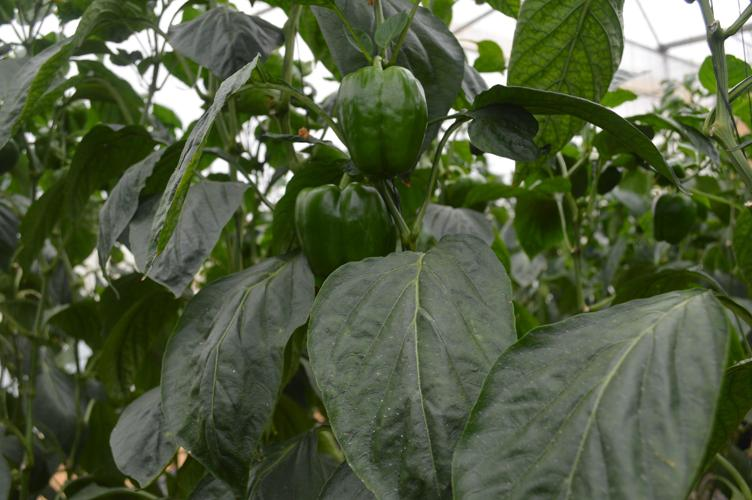BellPepper: (295, 180, 408, 295), (335, 61, 428, 184), (651, 185, 702, 251)
